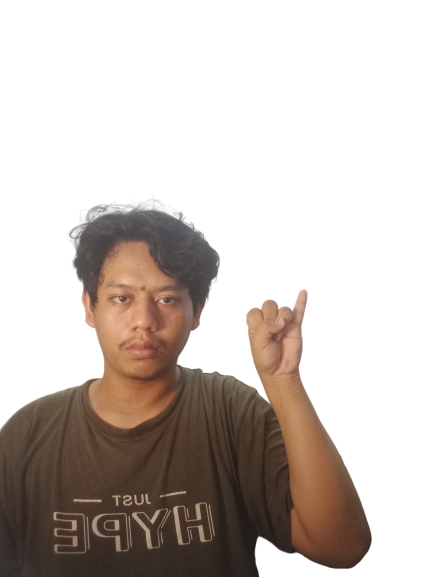I: (243, 284, 326, 378)
